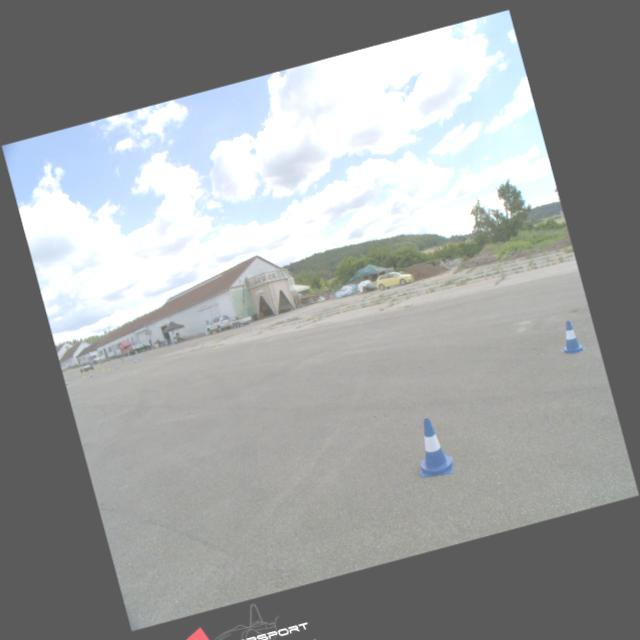blue_cone: (406, 412, 455, 480), (553, 317, 585, 355)
